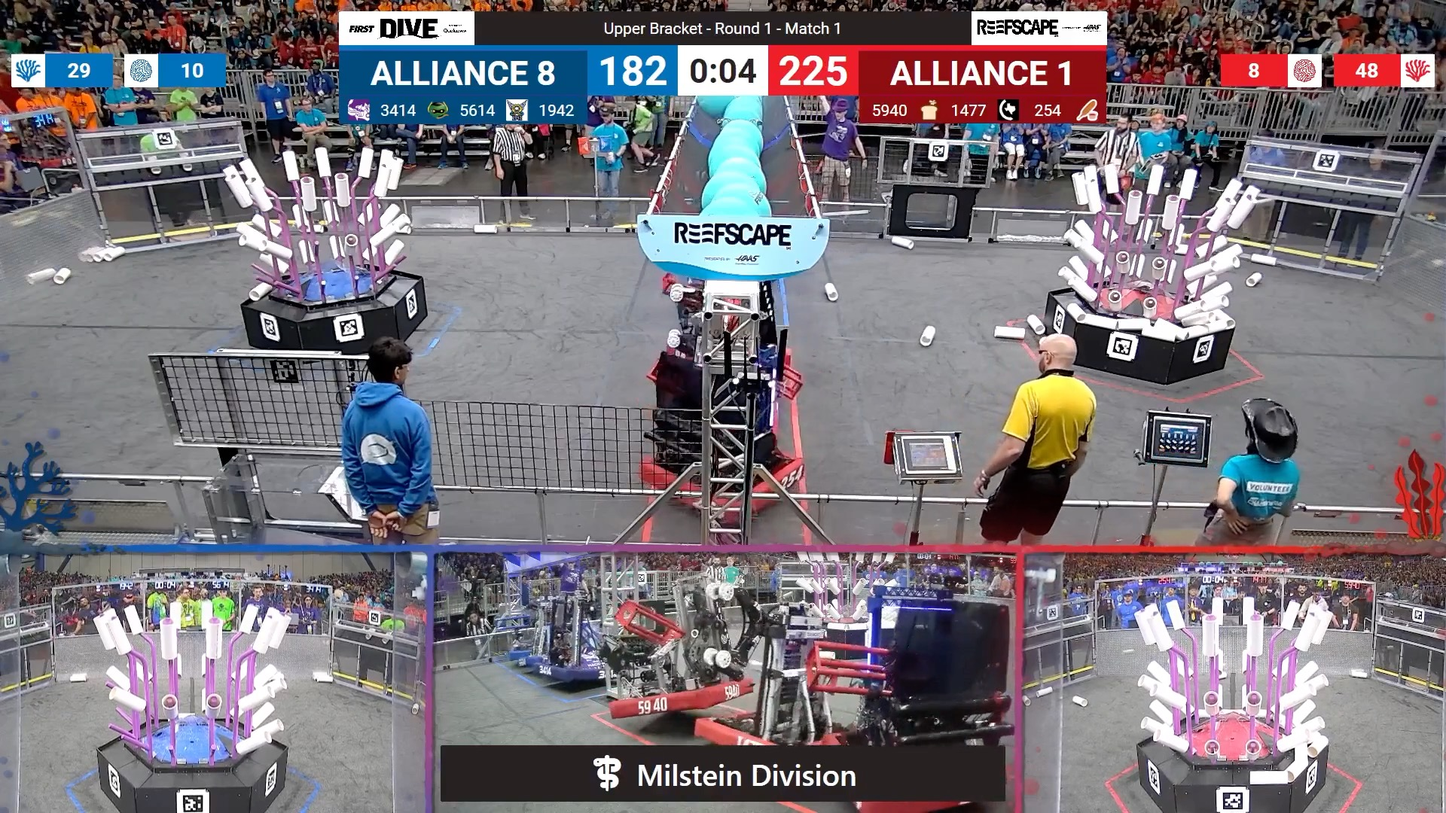bumpers: (631, 441, 807, 514), (604, 668, 760, 726), (694, 712, 828, 748), (517, 657, 613, 683)
